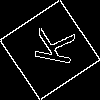K: (25, 25, 75, 67)
